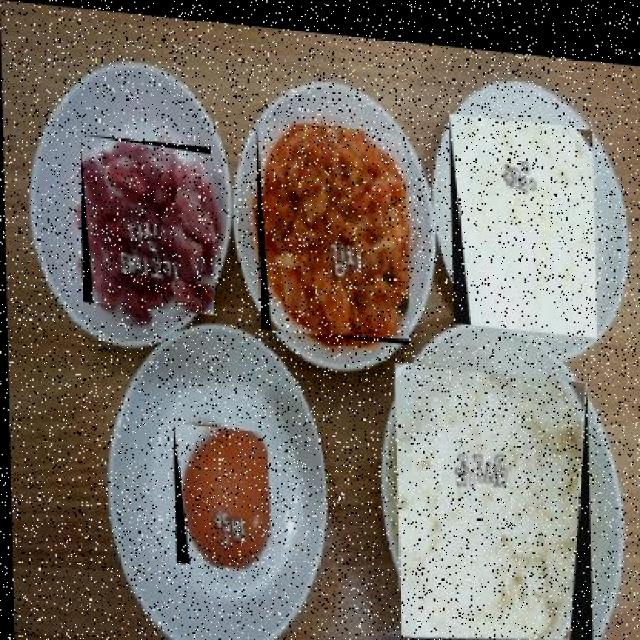Egg: (172, 420, 270, 569)
Onion: (449, 104, 597, 327)
Pork: (79, 132, 215, 312)
